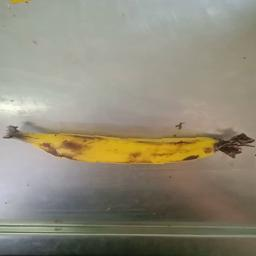Banana Semifresh: (9, 117, 256, 177)
